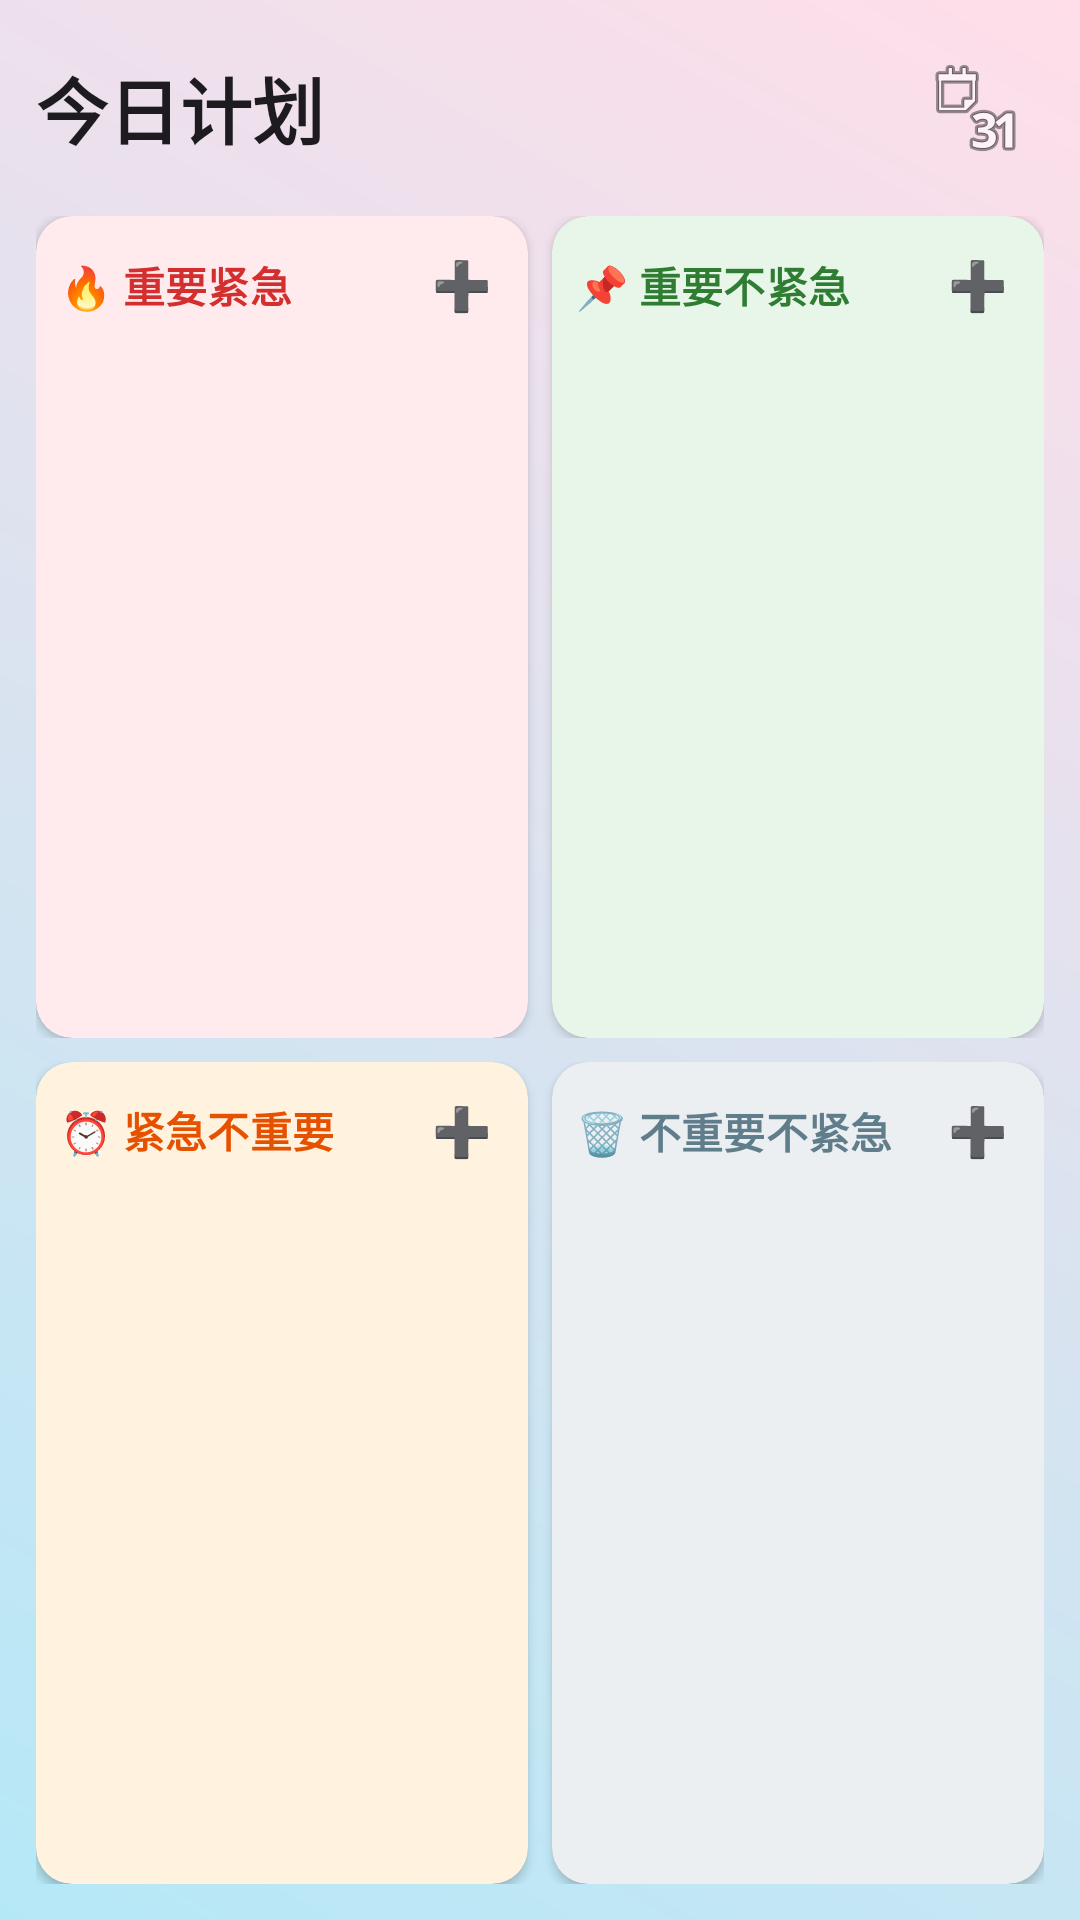

Screen size 1080 × 1920. Icon name, then its center in pixels as (x=x, y=y):
未来计划: (x=975, y=108)
